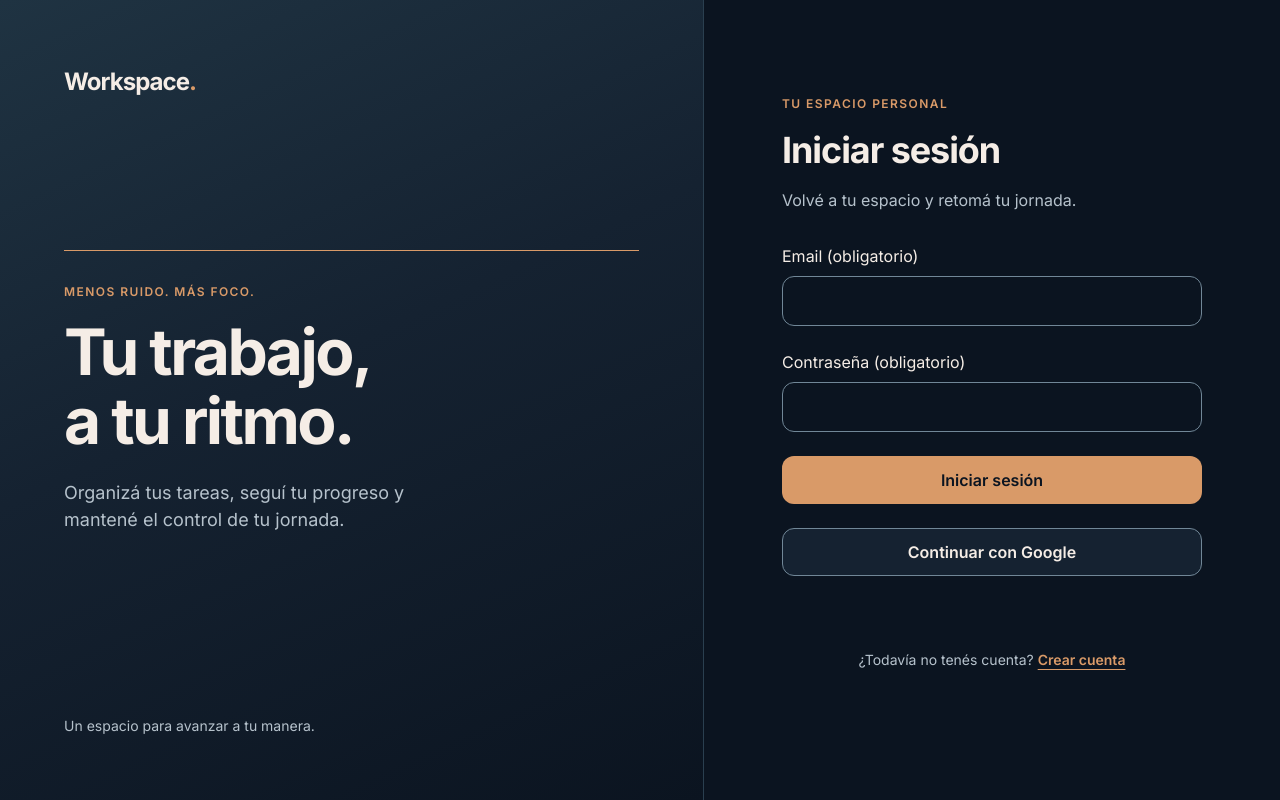
Test: Sesión y rutas › explica auth/invalid-credential y vuelve a habilitar ambos métodos
Click the button "Continuar con Google" at (992, 552), box [782,528,1202,576]
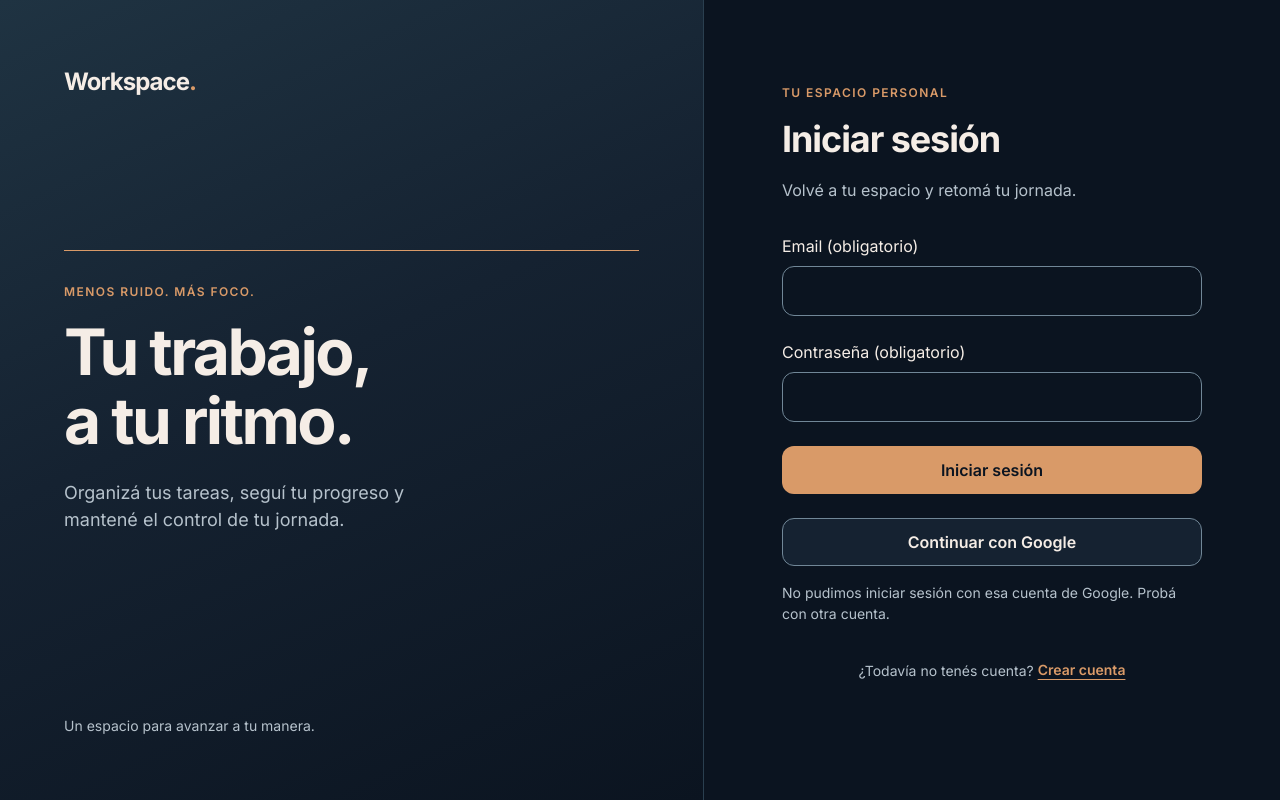
Expected: the message does not show "auth/invalid-credential", [782,582,1202,624]
Expected: the message shows "No pudimos iniciar sesión con esa cuenta de Google", [782,584,1176,622]
